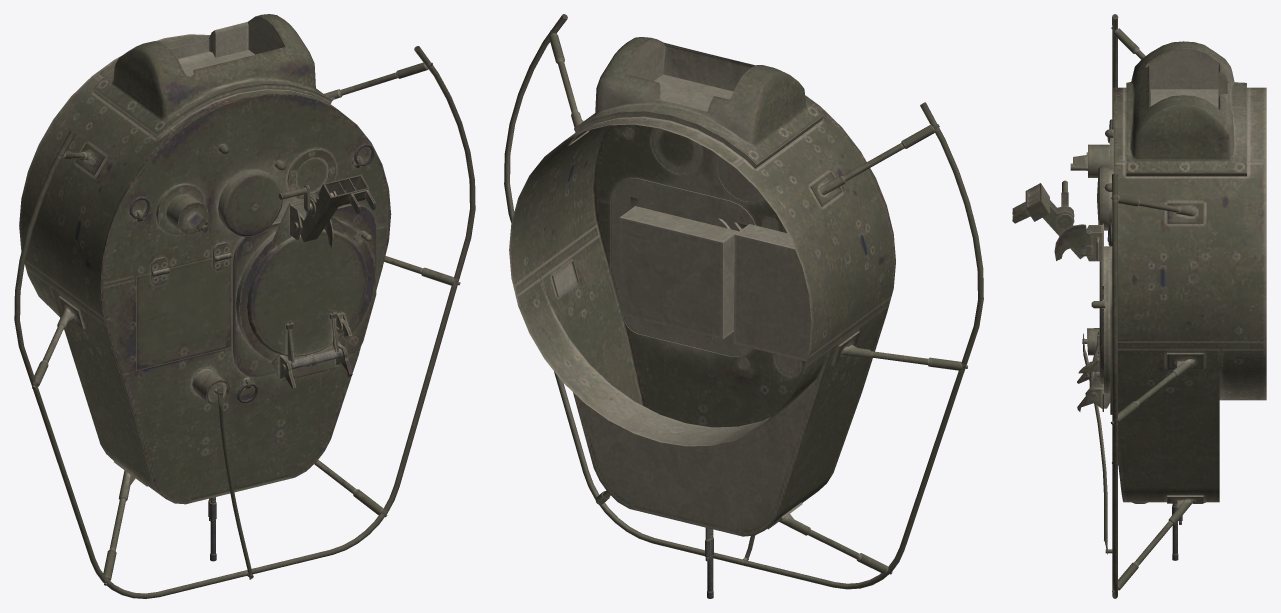
Rendered from Turret_01.glb.
3 views of the same model, side by side, from view 1: azimuth 30°, elevation 25°; view 2: azimuth 150°, elevation 25°; view 3: azimuth 270°, elevation 25° (orthographic). The views are drawn at different scales.
Visible parts, largest first — view 1: set_0_group_0; view 2: set_0_group_0; view 3: set_0_group_0.
Part boxes in pixels (<box>): set_0_group_0: <box>14,14,475,598</box>; set_0_group_0: <box>504,14,983,598</box>; set_0_group_0: <box>1012,14,1266,598</box>.
Bounding box in the file's own units: 2.1 × 2.28 × 1.07.
Materials: 1 (1 with a texture image).
